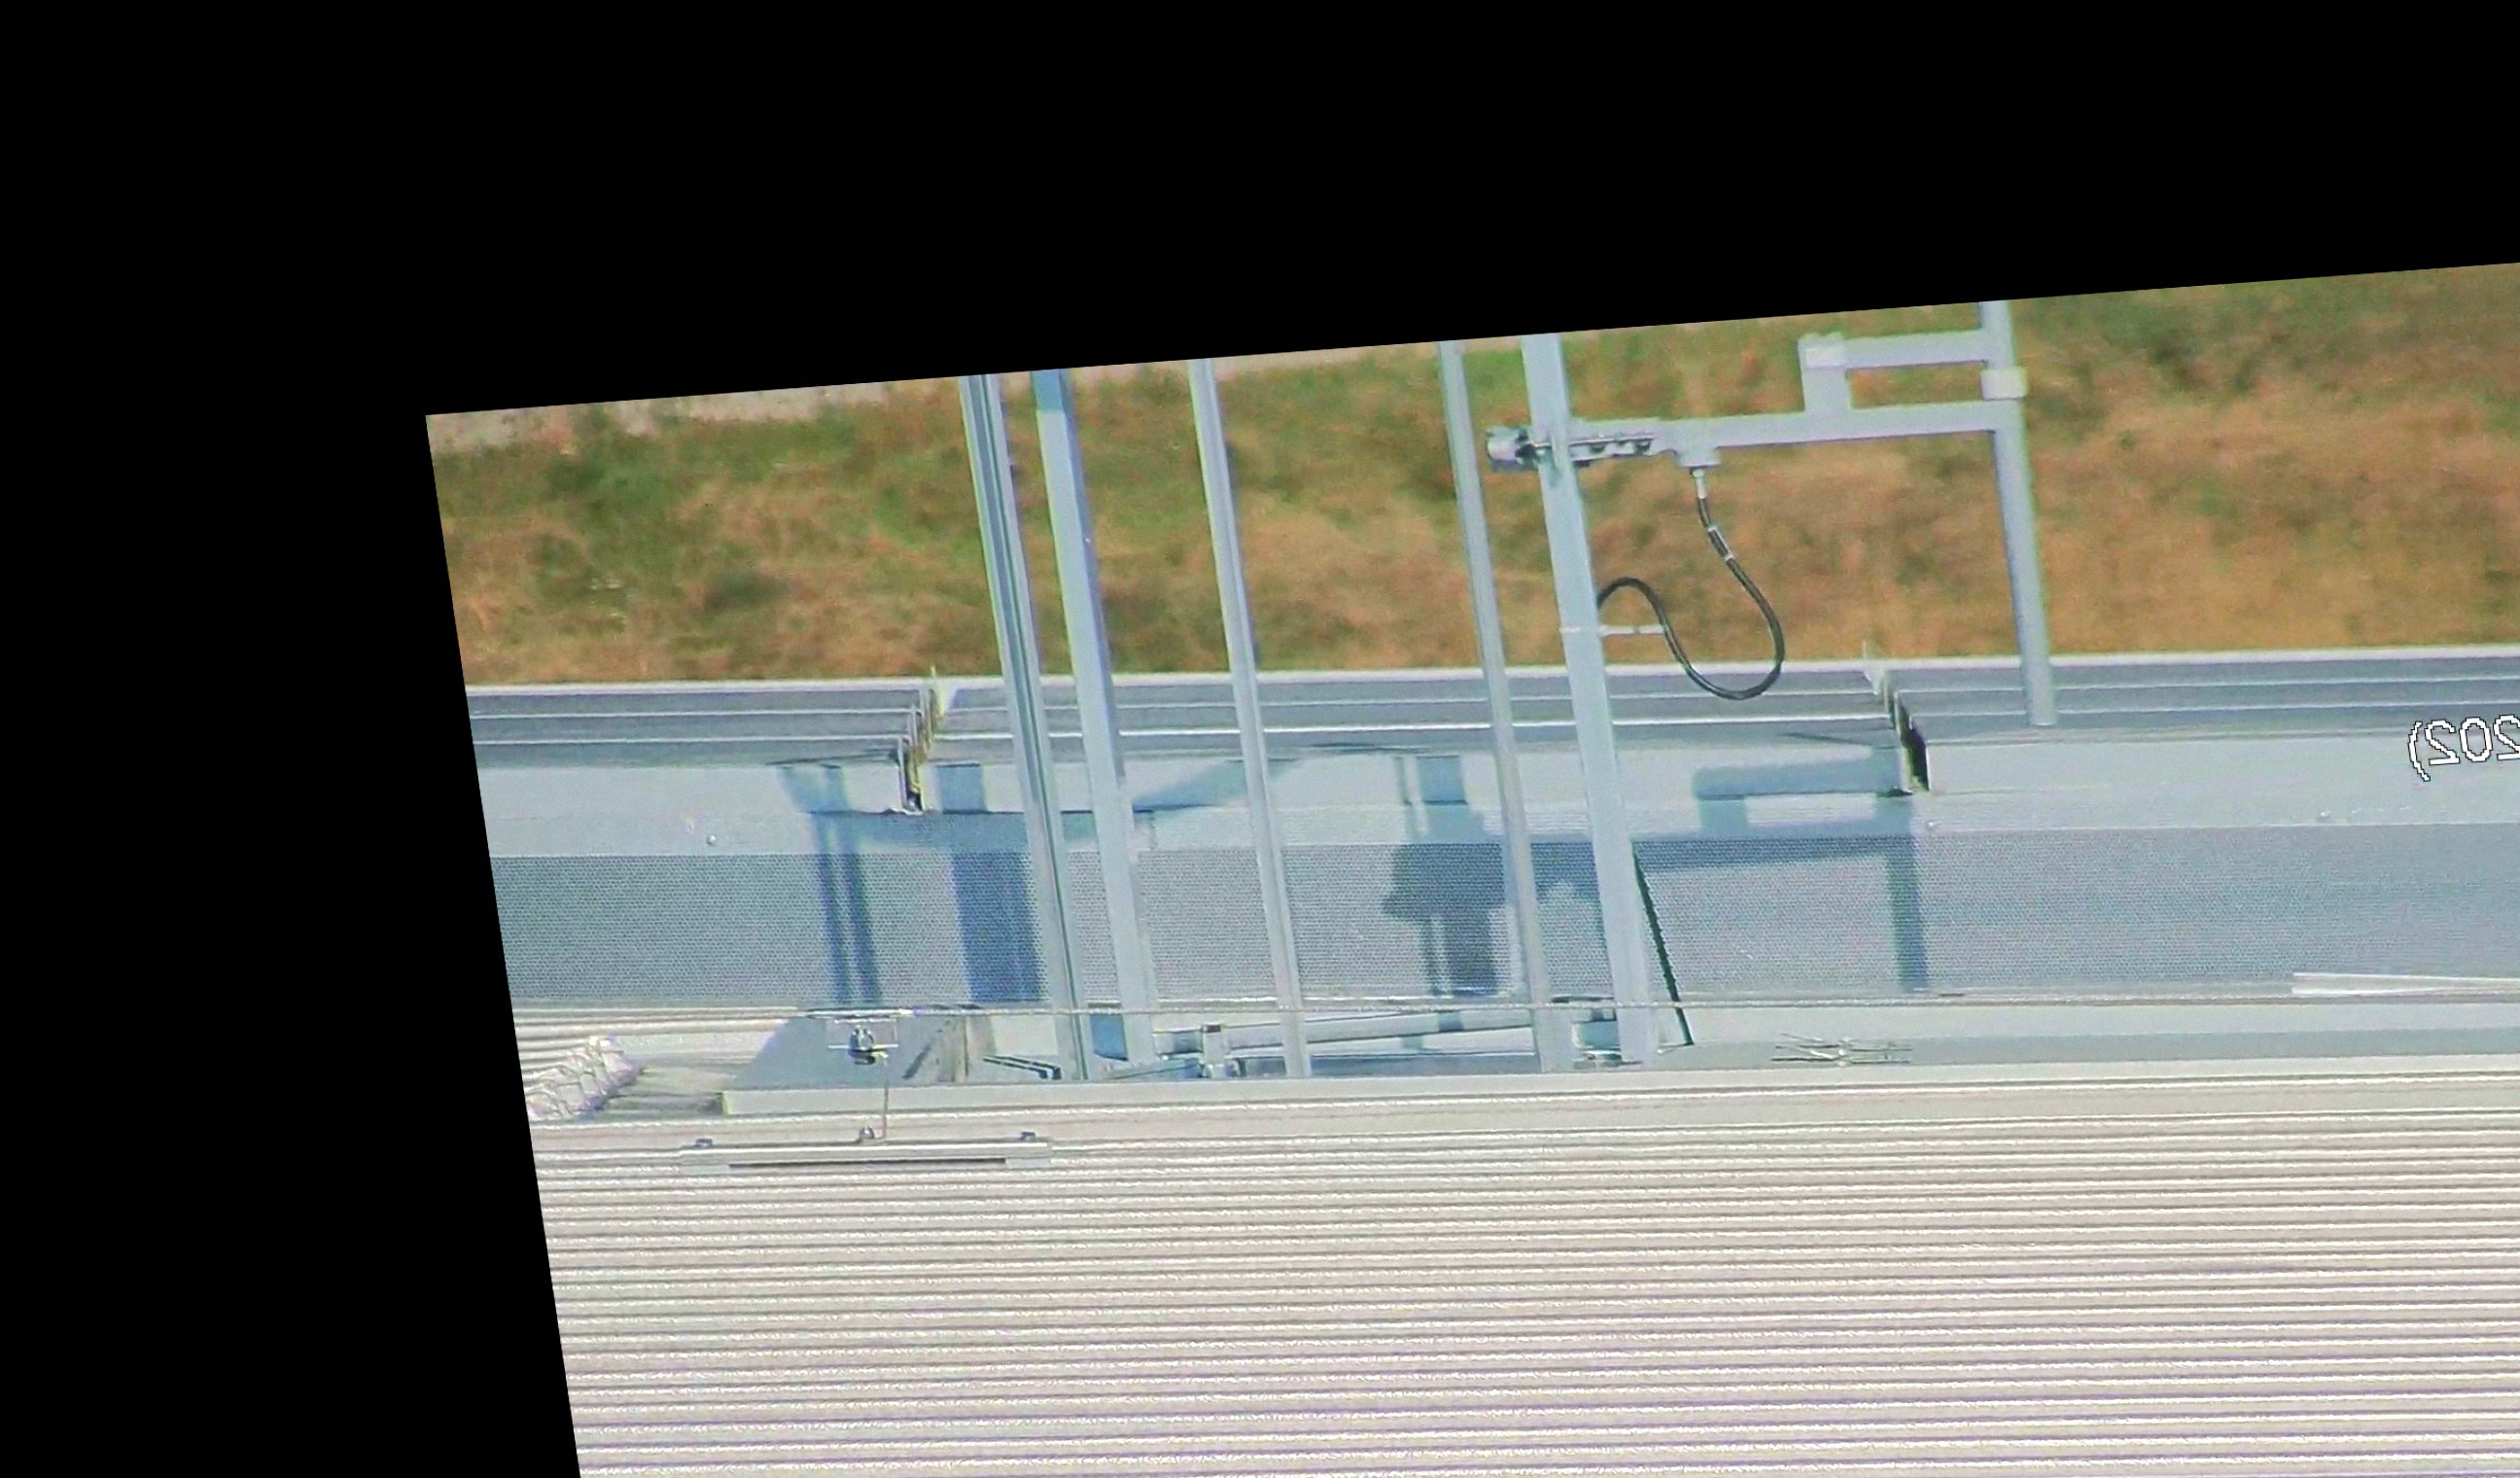Other: (513, 1021, 645, 1135)
